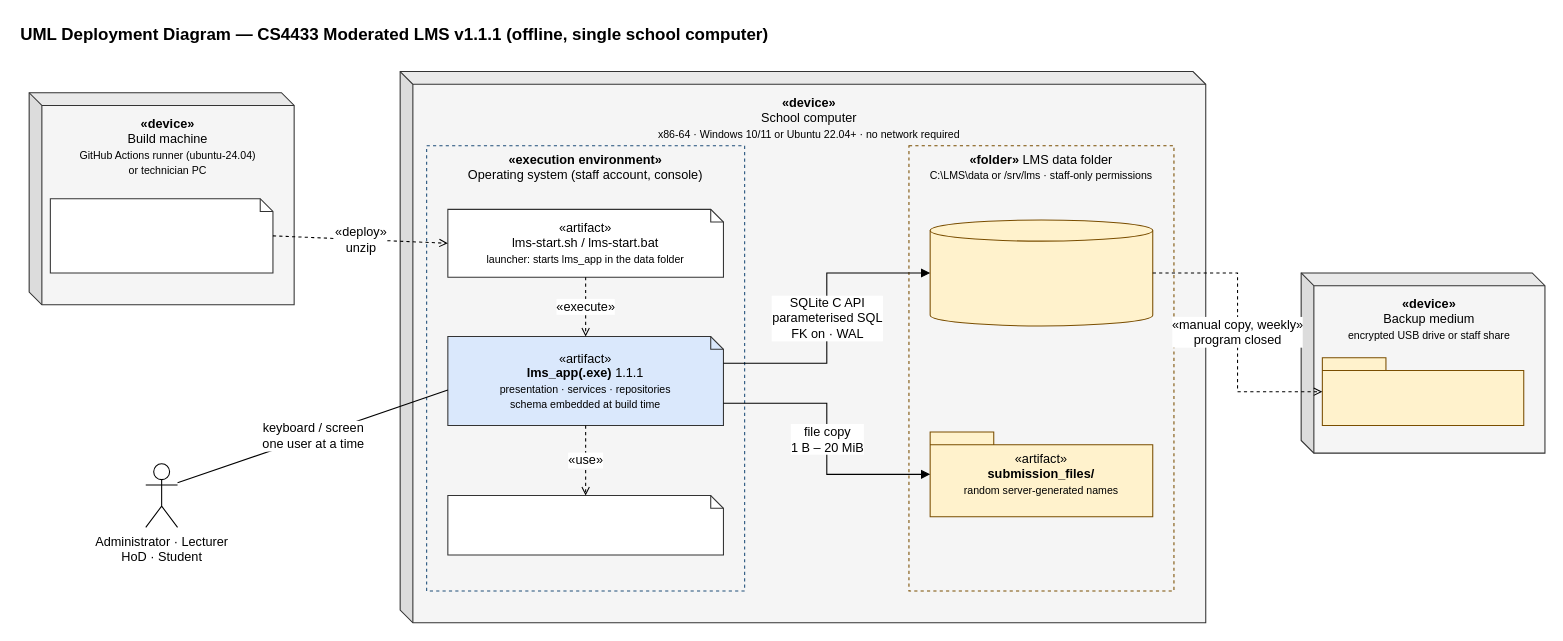
Some shapes in this 1563 by 641 pixel diagram are drawn without their labels. The box of each missing label's shape, as (x1, y1, x2, y2) in pixels:
«artifact» cs4433-moderated-lms-1.1.1 .tar.gz / .zip (CPack): (49, 198, 273, 273)
«artifact» dated backup copies database + submission_files: (1321, 357, 1524, 426)
«artifact» school_lms.sqlite3 + -wal / -shm · 15 tables · 3NF: (929, 219, 1153, 326)
«artifact» SQLite 3 library · OpenSSL libcrypto 3: (447, 494, 723, 555)
